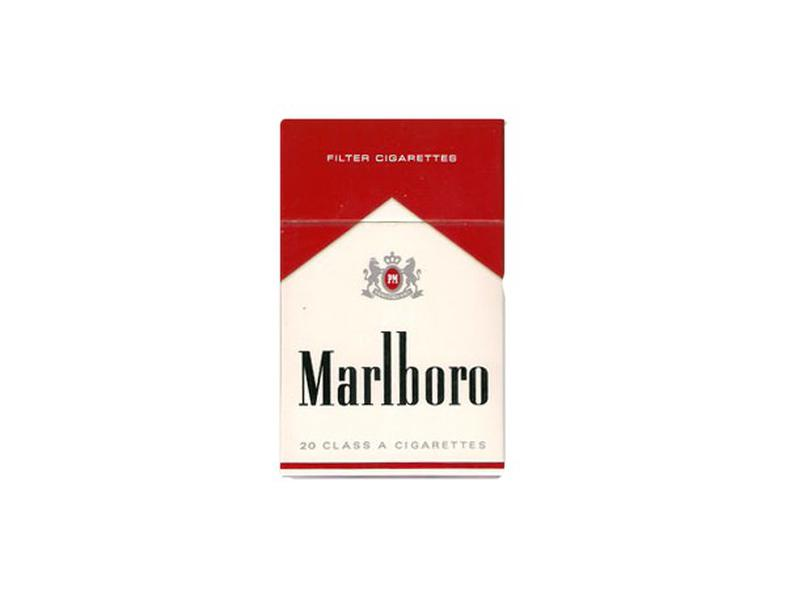marlboro_red: (284, 123, 504, 475)
